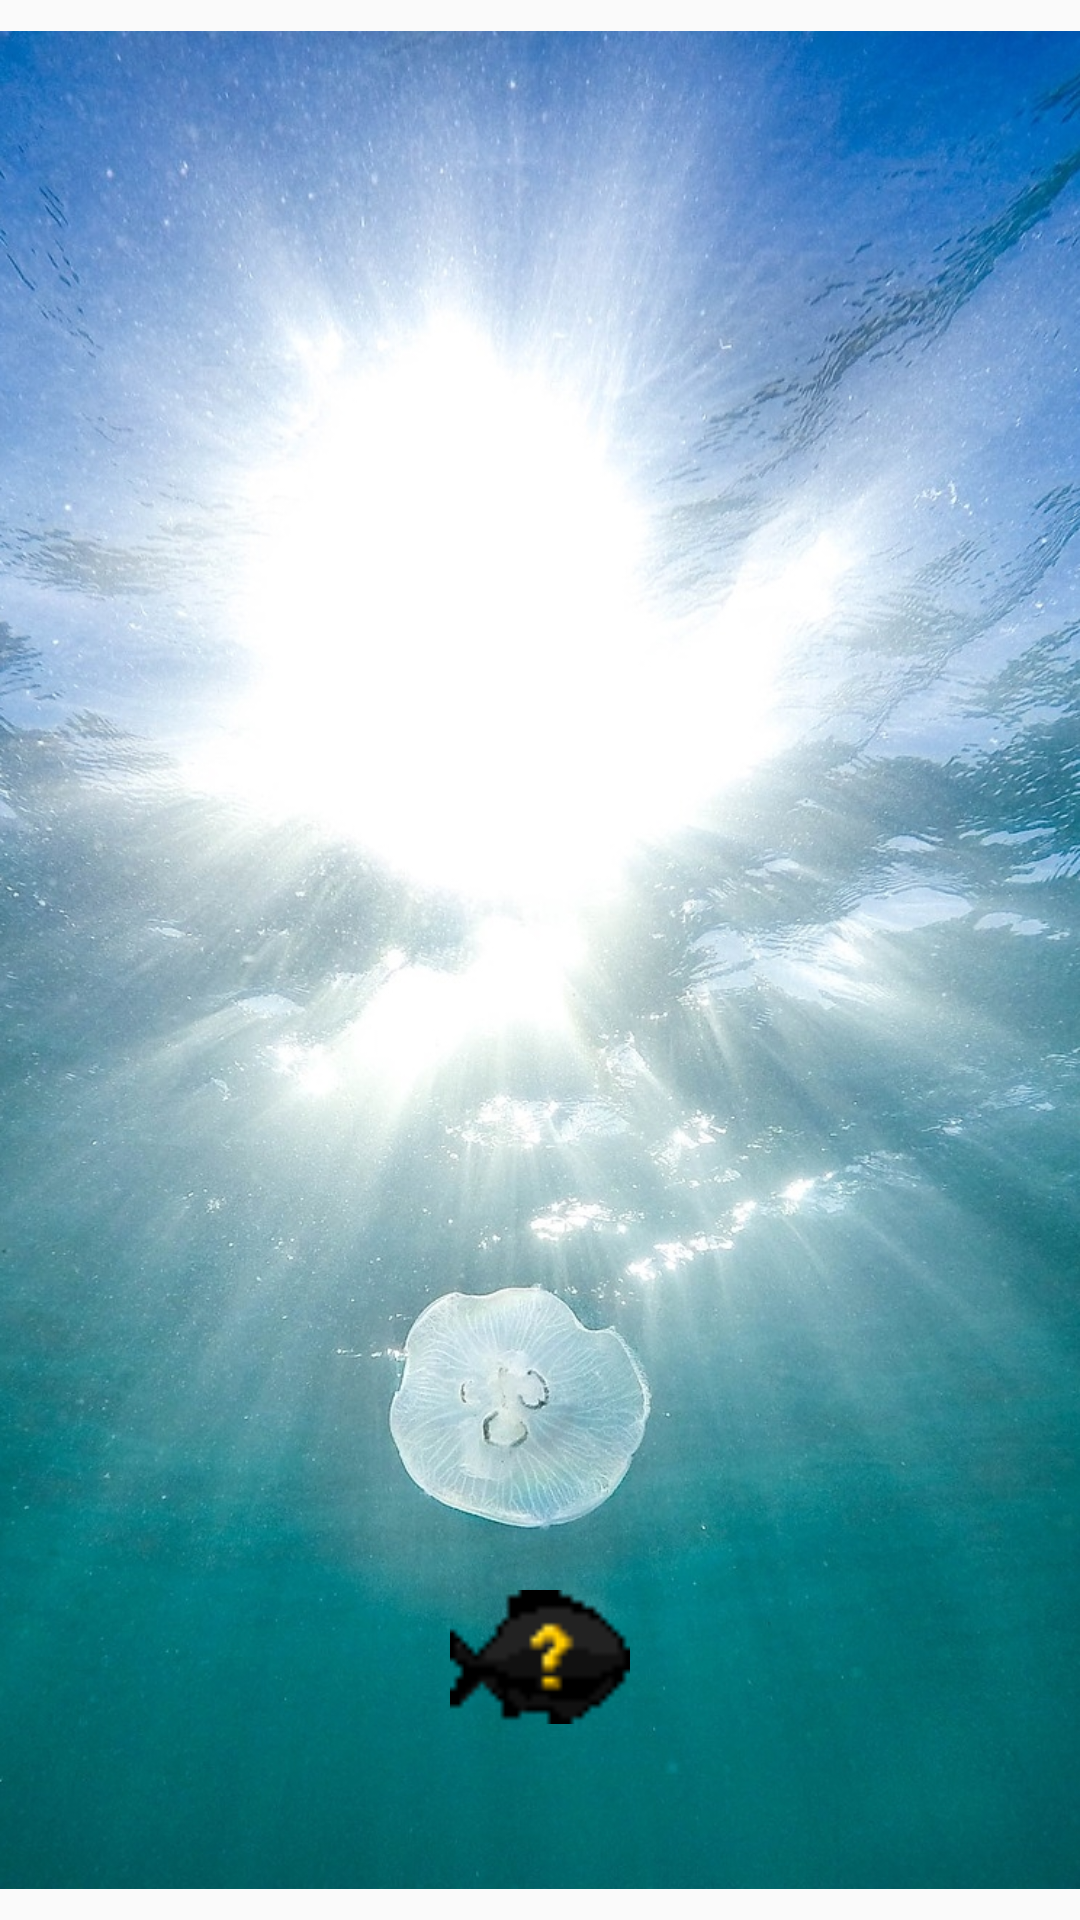

Point at icon controls on the screen. Image size 1080px×1920px, points as (x,y).
unkownfish: (540,1645)
